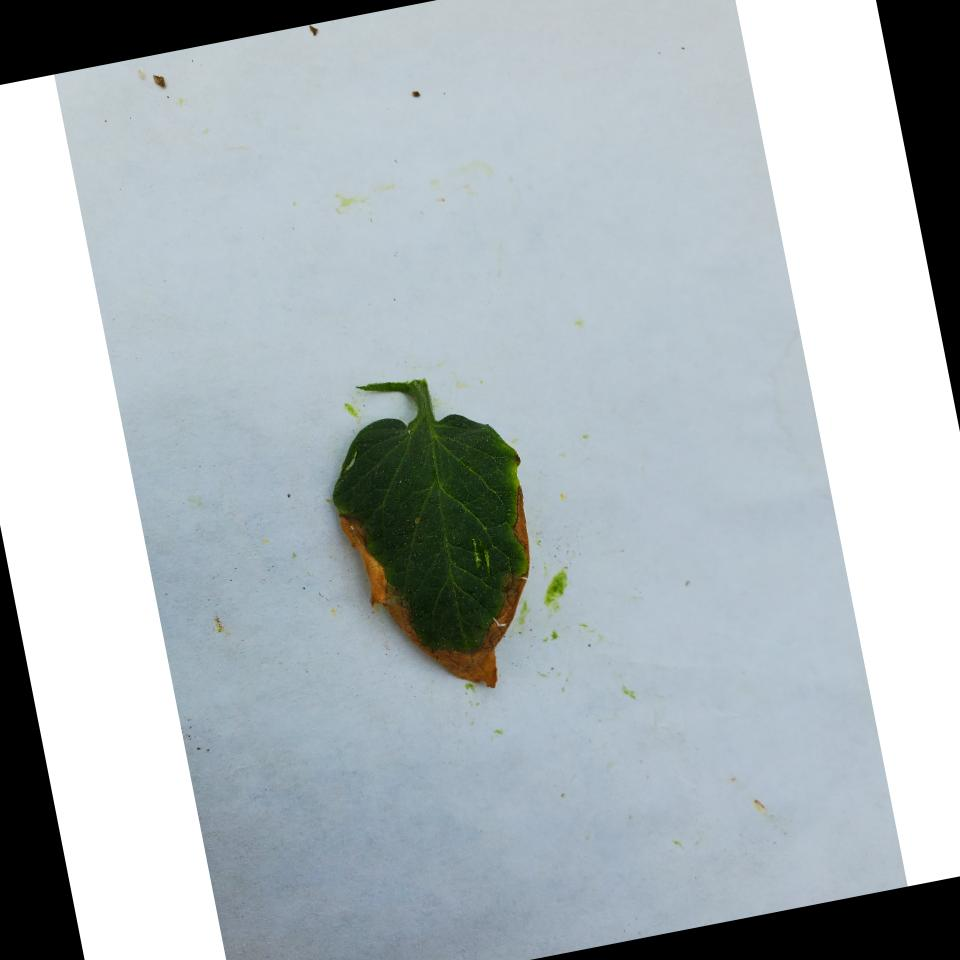tomato_bacterial_blight: (297, 327, 569, 715)
